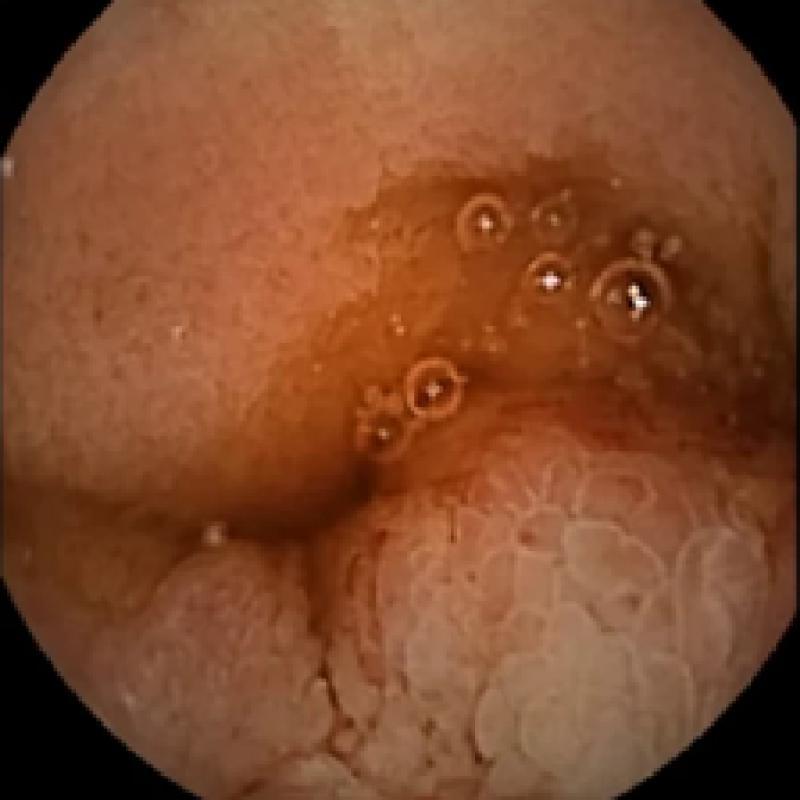bleeding: (221, 325, 800, 543)
